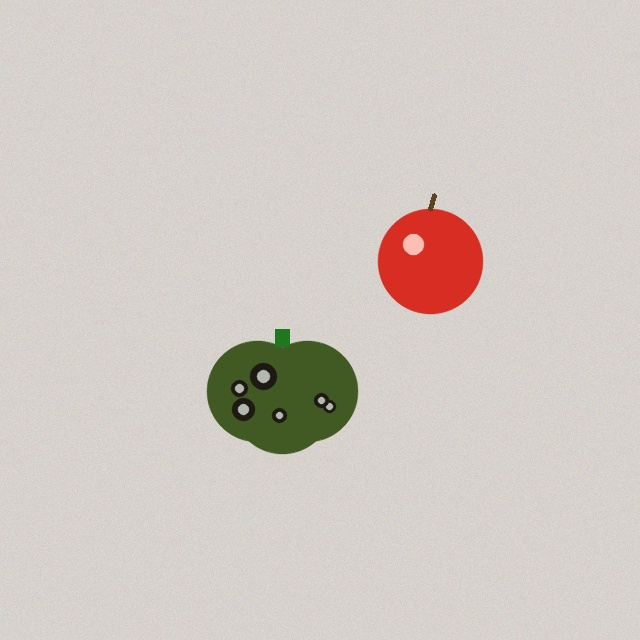Fresh apple: (378, 195, 482, 313)
Rotten bell pepper: (207, 329, 357, 453)
